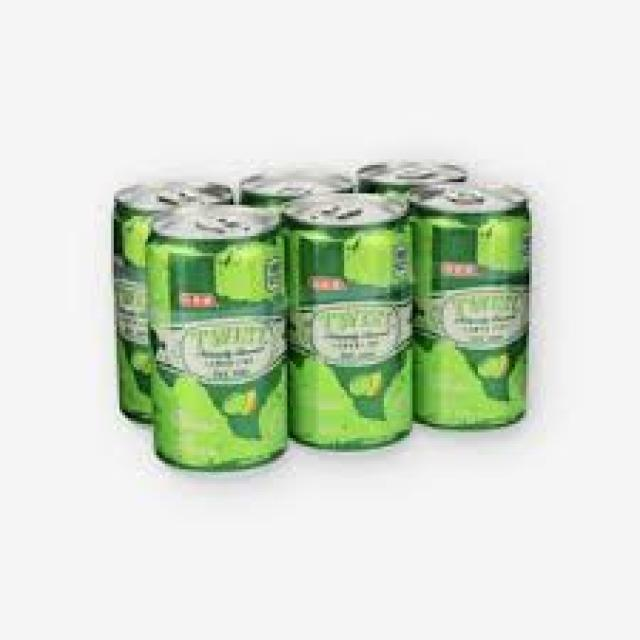Cans: (145, 205, 290, 475), (287, 191, 418, 458), (415, 177, 538, 436)
